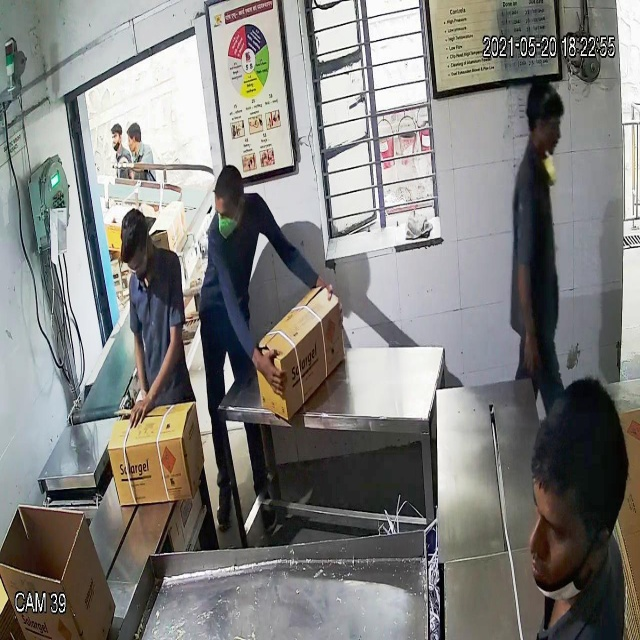Sin_gafas: (525, 491, 596, 556), (530, 109, 566, 142)
